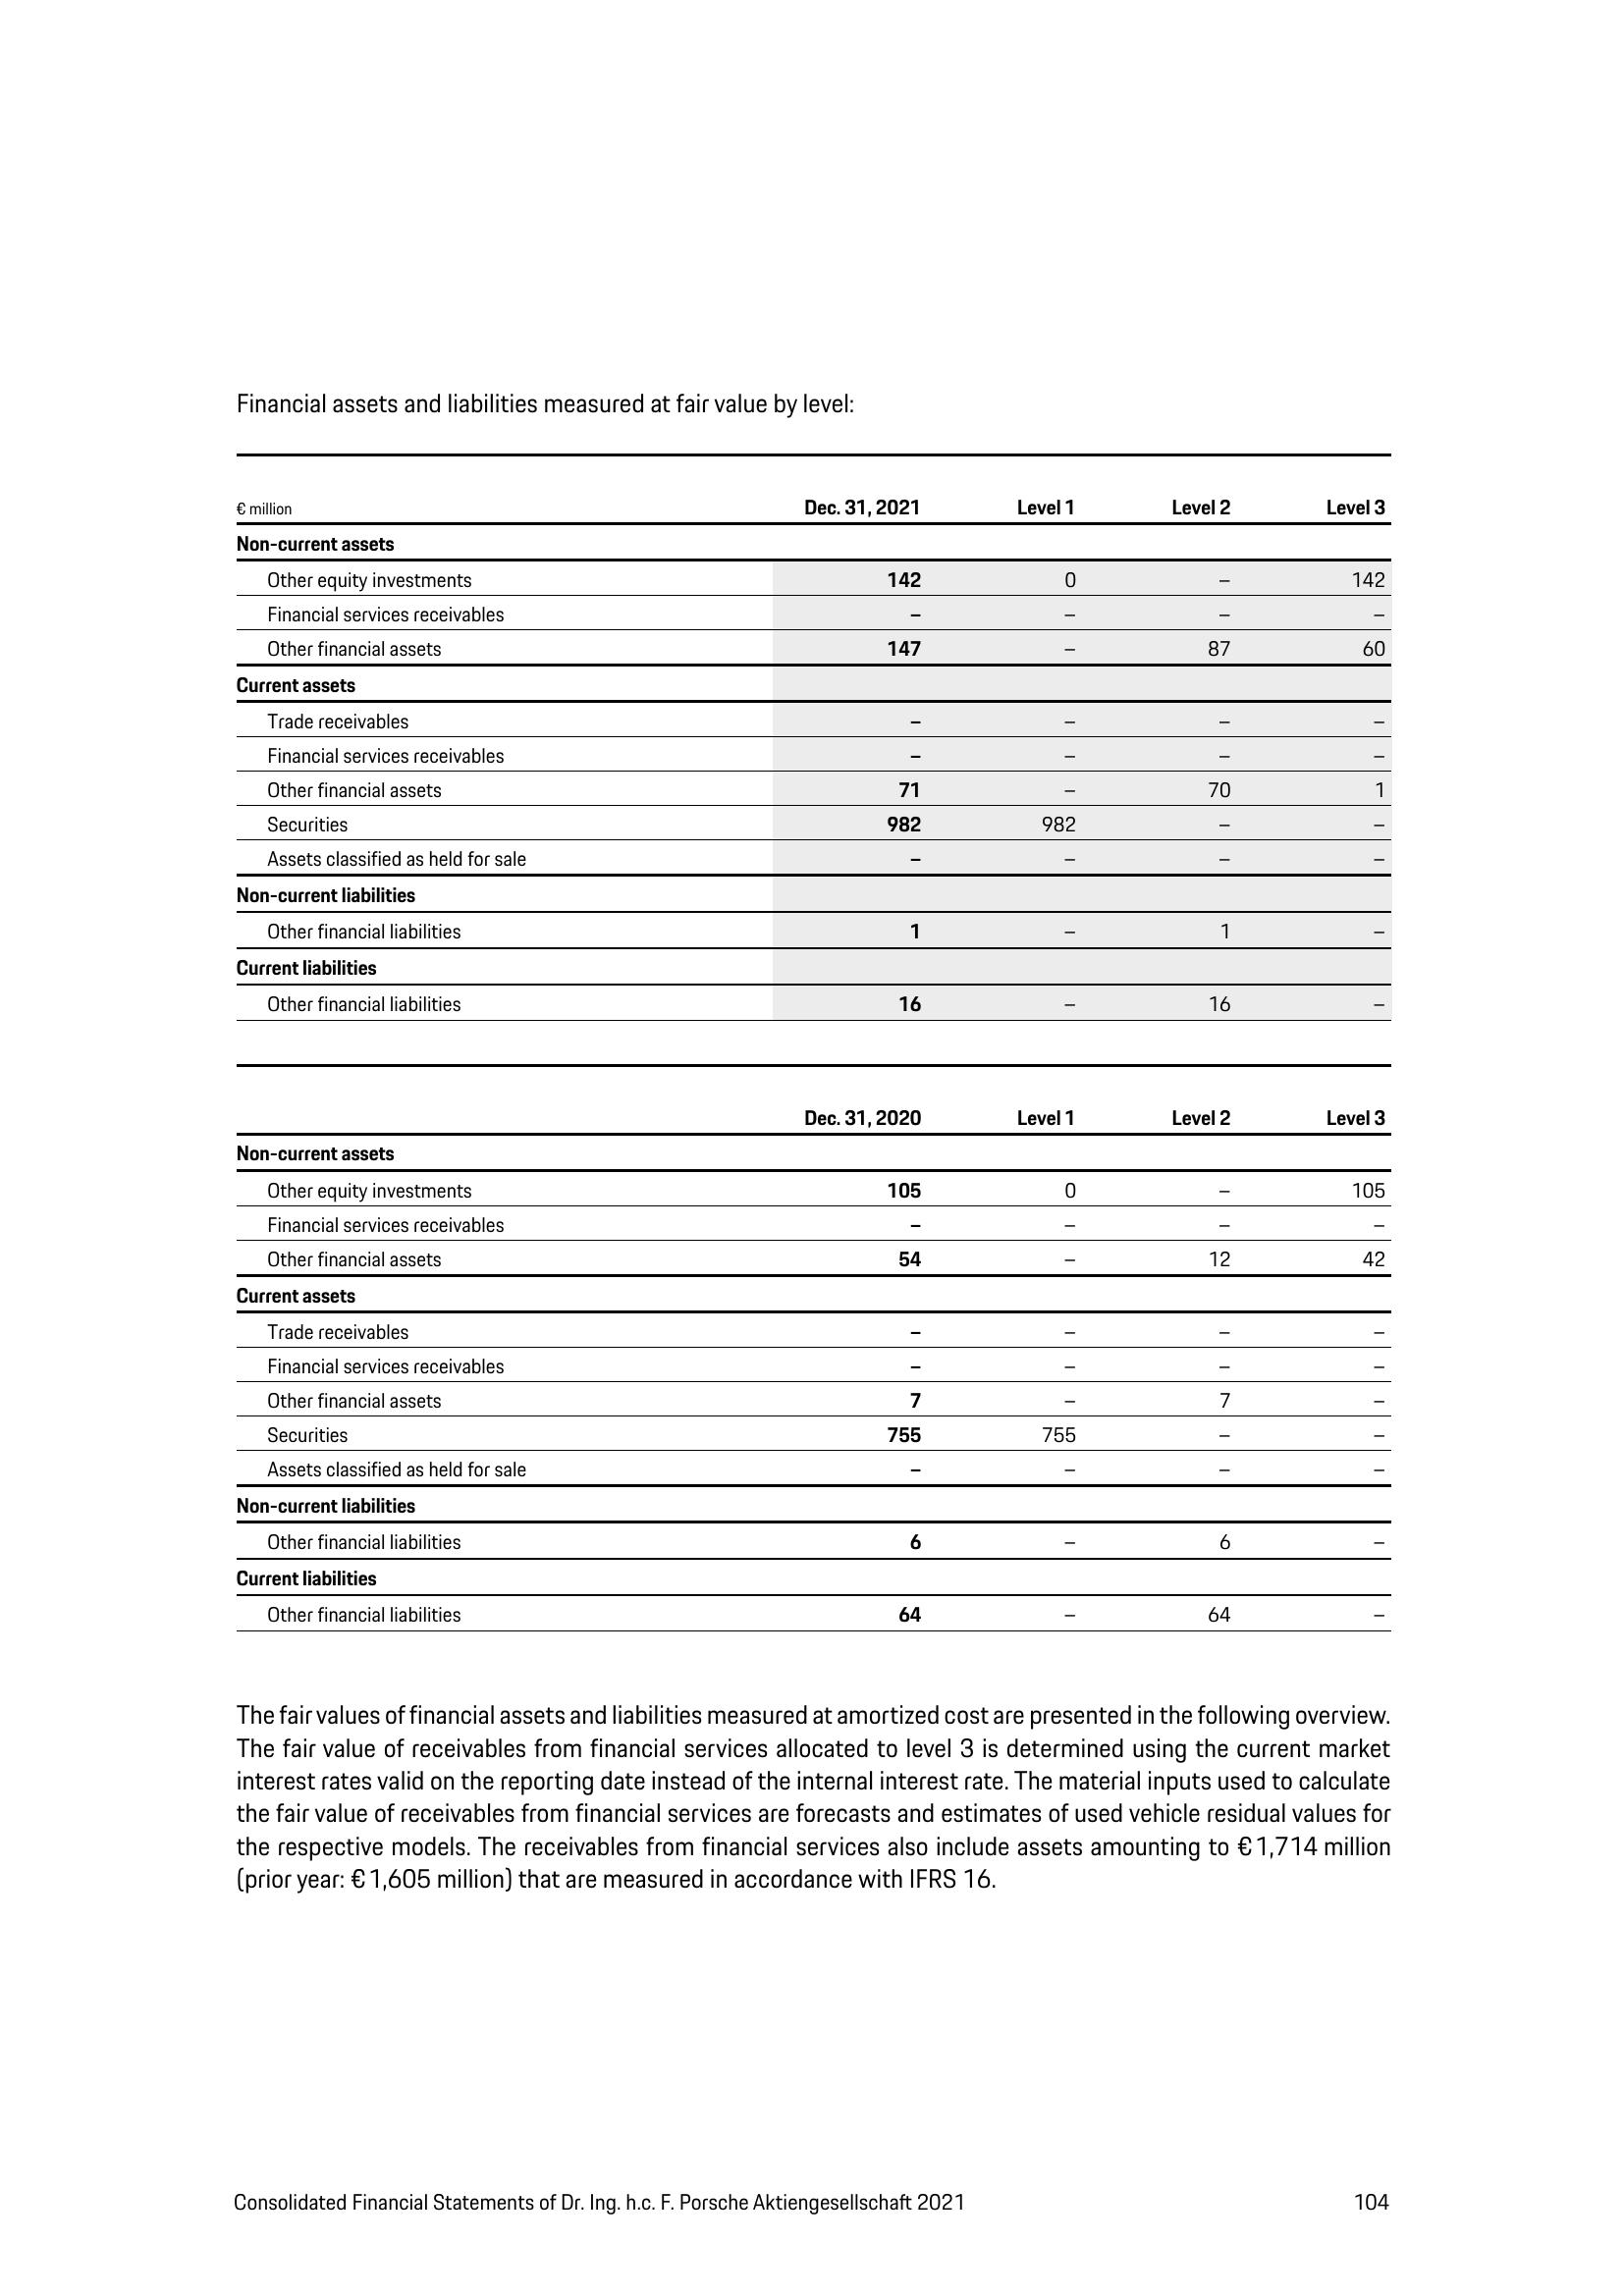Footer: (0, 2134, 1624, 2296)
Header: (0, 0, 1624, 228)
Table: (207, 453, 1443, 1634)
